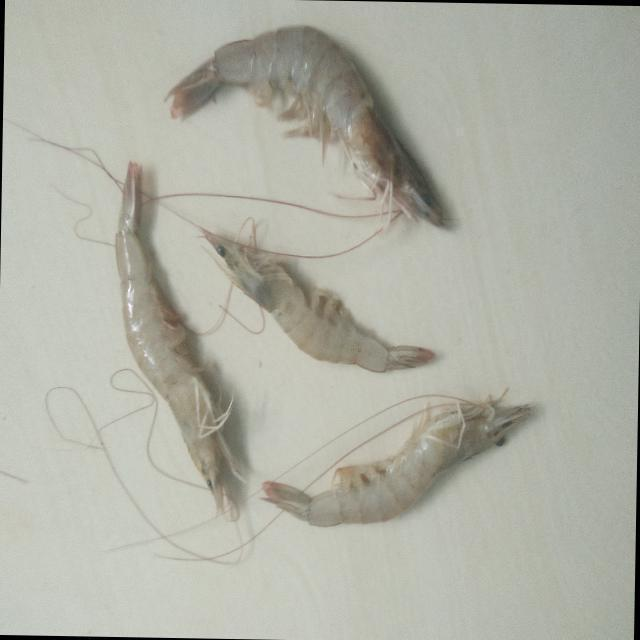shrimp: (168, 26, 452, 228), (115, 161, 242, 520), (263, 404, 531, 527), (204, 231, 434, 372)
